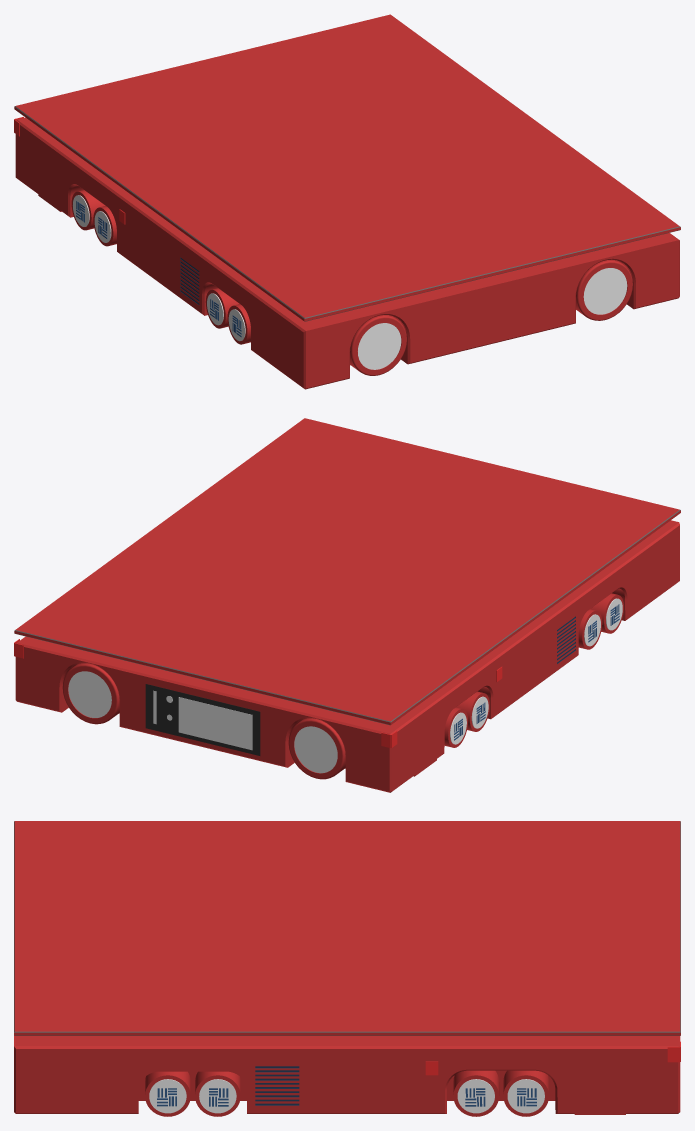
The model's file is carstepObj.obj.
3 views of the same model, one above another, from view 1: azimuth 30°, elevation 25°; view 2: azimuth 150°, elevation 25°; view 3: azimuth 270°, elevation 25° (orthographic). The views are drawn at different scales.
Visible parts, largest first — view 1: \X2\56DB54117A7F68AD8F666A21578B\X0\20200120/SOLID; view 2: \X2\56DB54117A7F68AD8F666A21578B\X0\20200120/SOLID; view 3: \X2\56DB54117A7F68AD8F666A21578B\X0\20200120/SOLID.
Boxes of the visible parts, x1=… form: \X2\56DB54117A7F68AD8F666A21578B\X0\20200120/SOLID: x1=14, y1=14, x2=680, y2=389; \X2\56DB54117A7F68AD8F666A21578B\X0\20200120/SOLID: x1=14, y1=418, x2=680, y2=792; \X2\56DB54117A7F68AD8F666A21578B\X0\20200120/SOLID: x1=14, y1=821, x2=680, y2=1116.
Bounding box in the file's own units: 1206 × 231 × 1602.
